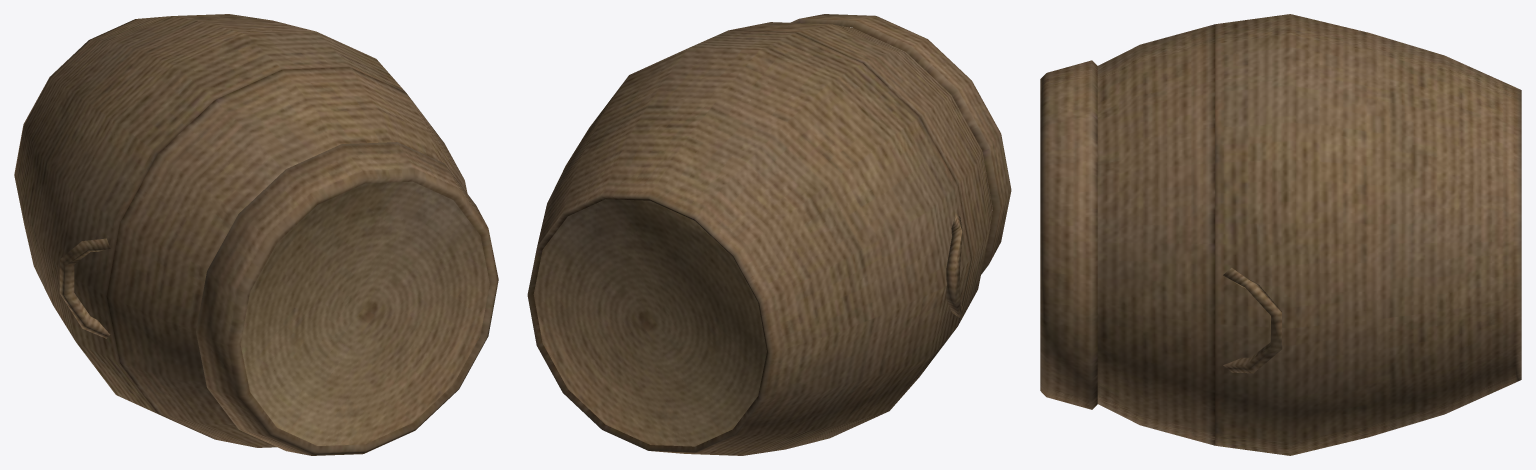
The model's file is prop_wickerbasket8.glb.
3 renders of one model, left to right at view 1: azimuth 30°, elevation 25°; view 2: azimuth 150°, elevation 25°; view 3: azimuth 270°, elevation 25°, orthographic. The views are drawn at different scales.
Size of the model in its own units: 37.66 by 36.25 by 39.43.
Materials: 1 (1 with a texture image).
